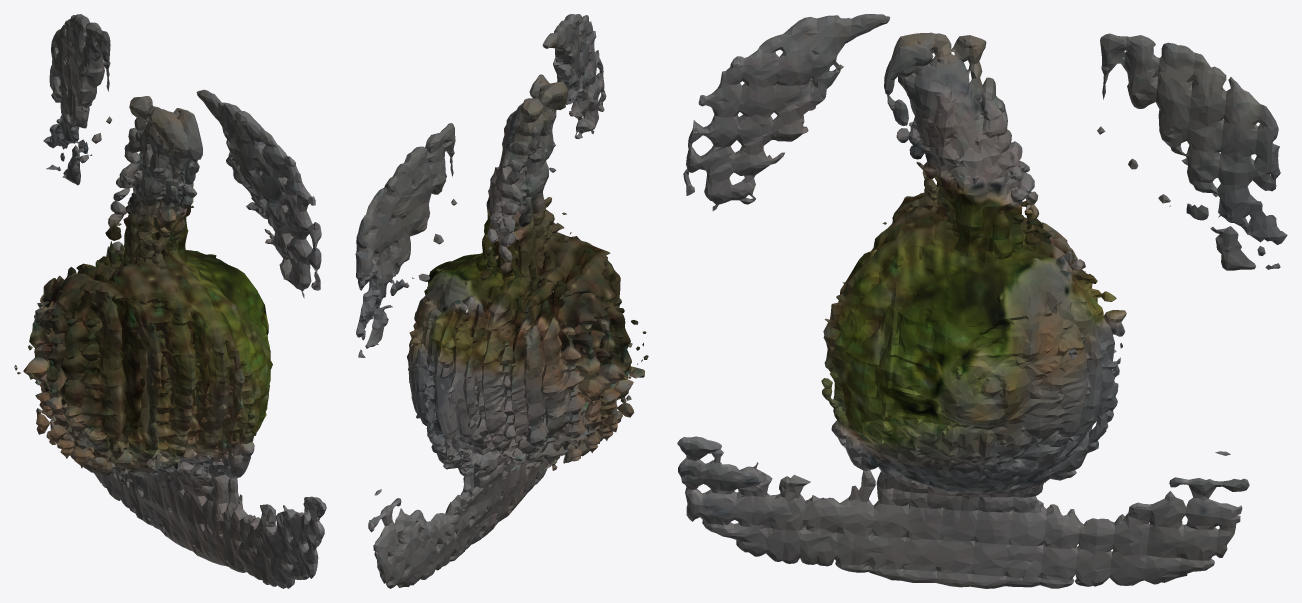
File: fiddlehead.glb
The picture shows the model from 3 angles, left to right: view 1: azimuth 30°, elevation 25°; view 2: azimuth 150°, elevation 25°; view 3: azimuth 270°, elevation 25°; orthographic projection. The views are drawn at different scales.
Parts seen in each view (by area): view 1: world; view 2: world; view 3: world.
Boxes of the visible parts, x1,y1,x2,y2 form: world: [14, 14, 326, 588]; world: [355, 14, 648, 588]; world: [677, 14, 1287, 588].
Size of the model in its own units: 0.268 by 0.55 by 0.5406.
1 material, 1 textured.
